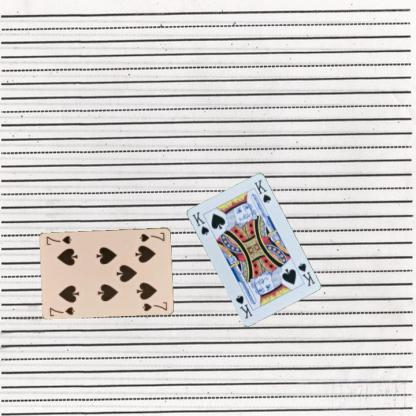7s: (137, 229, 166, 243), (46, 304, 76, 317)
Ks: (295, 260, 316, 288), (190, 209, 210, 236)
